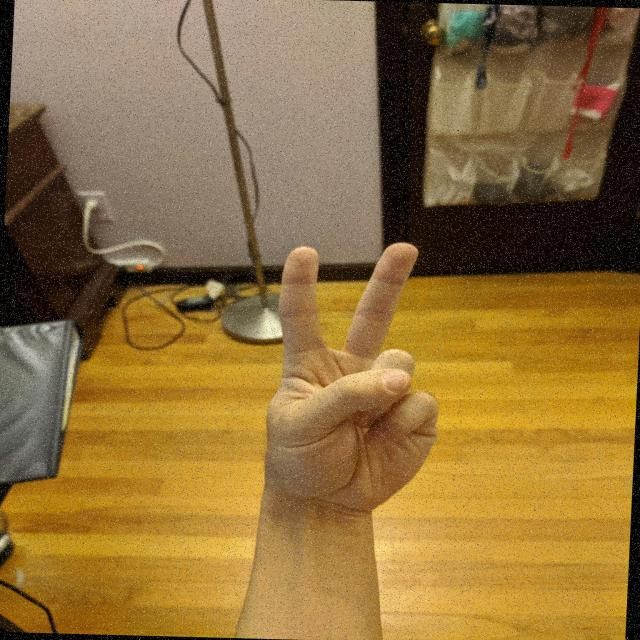V: (254, 234, 451, 521)
